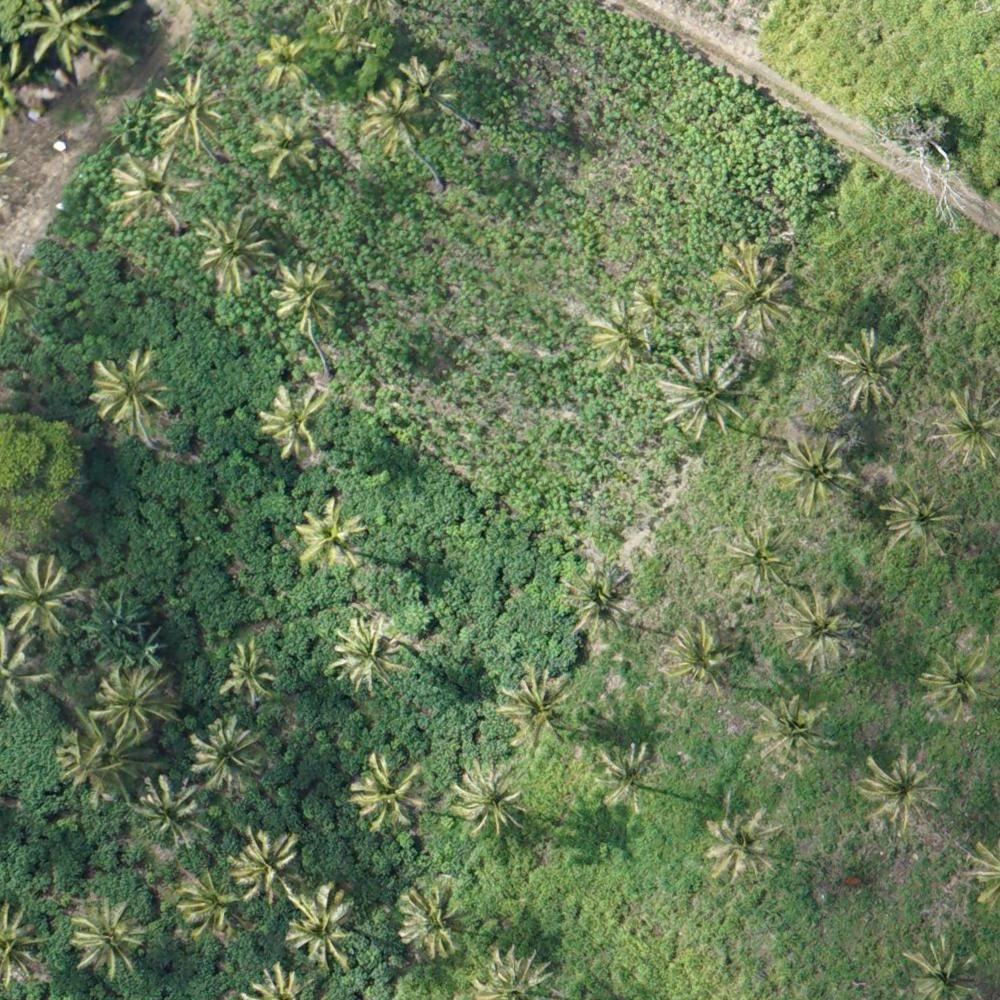Palm: (716, 247, 808, 338), (111, 144, 203, 234), (659, 350, 750, 435), (96, 662, 181, 746), (780, 588, 869, 667), (1, 551, 81, 638), (20, 1, 108, 77), (89, 349, 172, 429), (288, 883, 362, 972), (830, 329, 911, 409), (779, 432, 857, 513), (753, 691, 835, 768), (863, 747, 939, 829), (391, 880, 470, 958), (198, 210, 275, 290), (67, 899, 147, 976), (348, 751, 425, 830), (261, 381, 338, 460), (881, 480, 957, 560), (499, 668, 575, 748), (361, 80, 435, 159), (331, 614, 406, 690), (561, 561, 638, 635), (456, 762, 530, 839), (151, 71, 225, 148), (662, 617, 737, 692), (298, 498, 372, 573), (189, 721, 262, 796), (935, 382, 1000, 466), (702, 808, 780, 878), (918, 648, 991, 721), (134, 775, 209, 846), (238, 825, 307, 900), (174, 867, 242, 941), (722, 524, 793, 593), (273, 257, 340, 329), (905, 939, 981, 1000), (597, 742, 665, 810), (579, 296, 642, 368), (254, 113, 320, 177), (221, 638, 280, 706), (257, 29, 318, 91), (399, 51, 458, 115)
